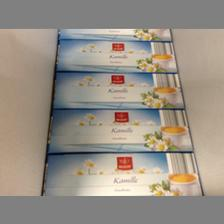Tee: (45, 107, 197, 153), (38, 152, 202, 192), (51, 70, 185, 106), (55, 37, 179, 71)
